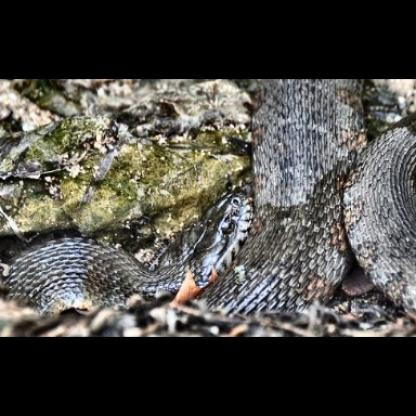Snake: (0, 104, 263, 326)
